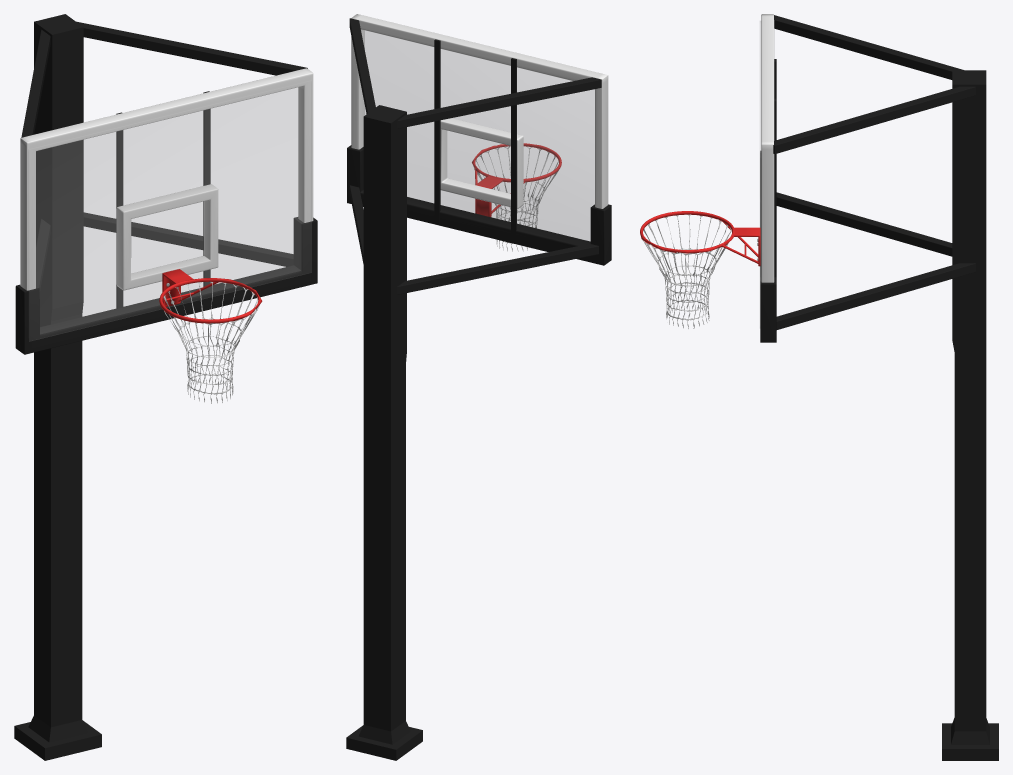
File: backboard.fbx
3 renders of one model, left to right at view 1: azimuth 30°, elevation 25°; view 2: azimuth 150°, elevation 25°; view 3: azimuth 270°, elevation 25°, orthographic. The views are drawn at different scales.
Parts seen in each view (by area): view 1: backboard; view 2: backboard; view 3: backboard.
Boxes of the visible parts, x1=… form: backboard: x1=14, y1=14, x2=317, y2=760; backboard: x1=346, y1=14, x2=611, y2=760; backboard: x1=640, y1=14, x2=998, y2=760.
Bounding box in the file's own units: 0.7052 × 1.65 × 0.8015.
